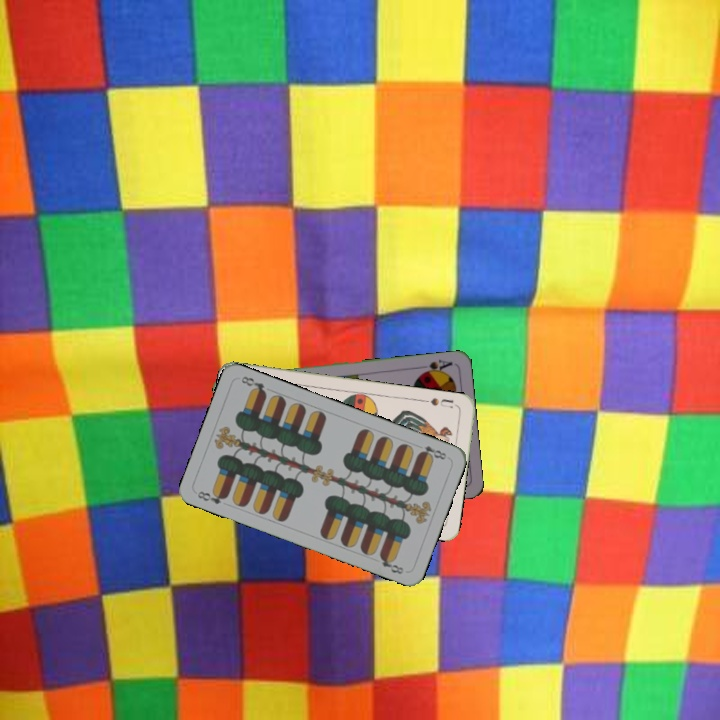E8: (193, 487, 230, 507), (415, 441, 449, 462)
SA: (415, 355, 455, 377)
SU: (420, 394, 456, 410)
